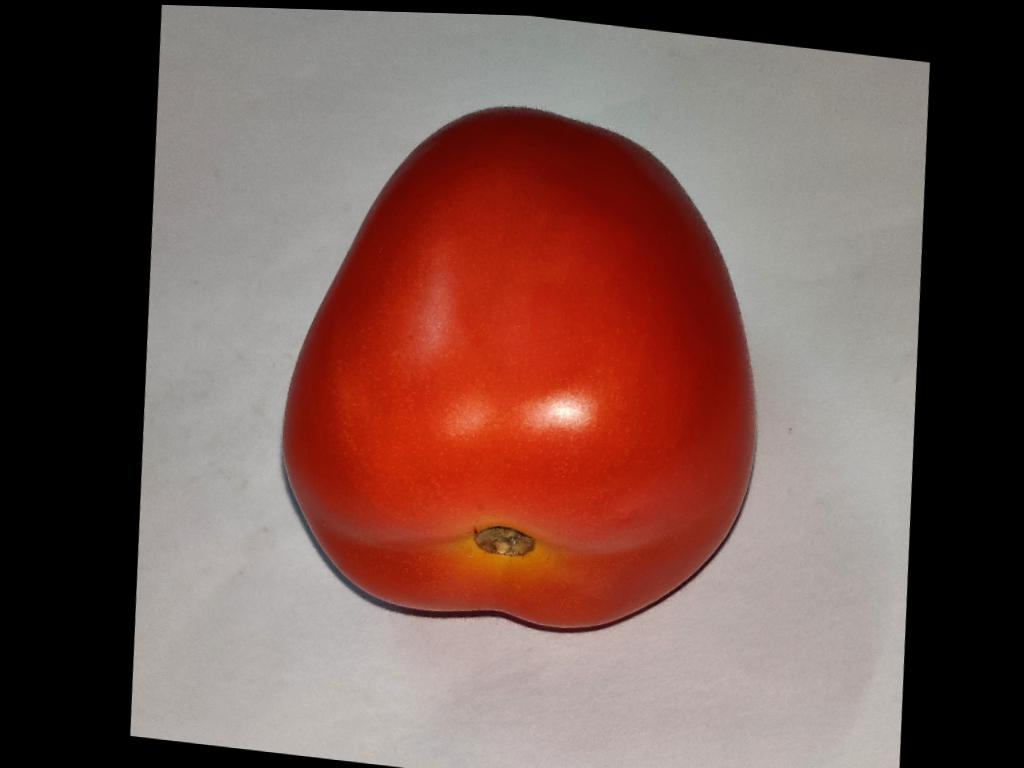tomato: (282, 109, 752, 628)
